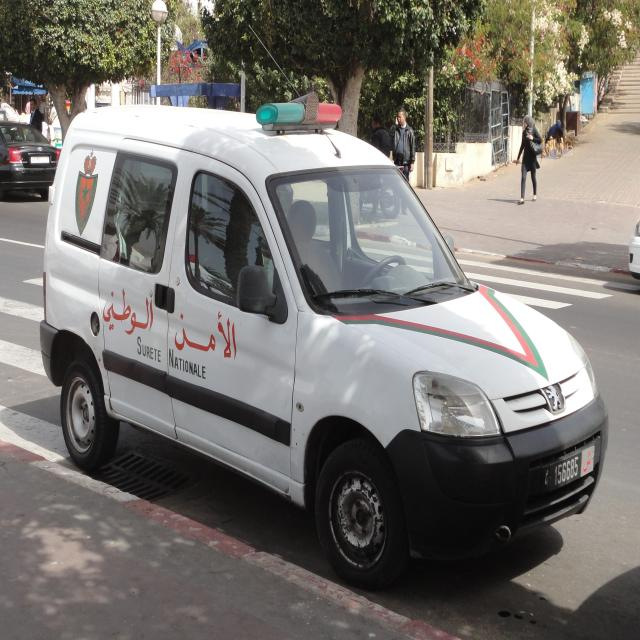police: (39, 88, 606, 579)
